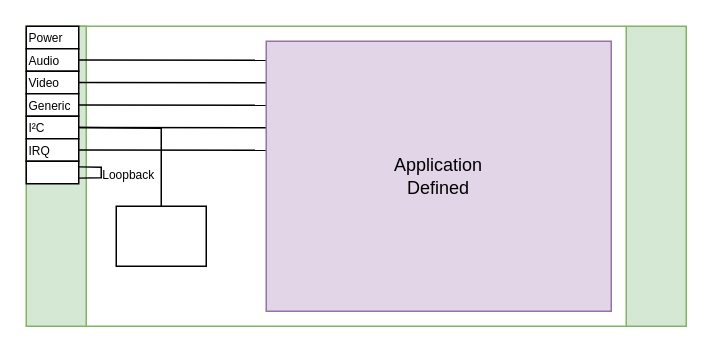
The diagram is 713 pixels wide and 354 high, and some of its shapes have lost their labels. The shapes that lost their labels are listed below. From the top down, each one's centre as x and y in pixels, then its label:
point 52,172: Detect
point 655,175: Frontpanel
point 160,235: EEPROM
